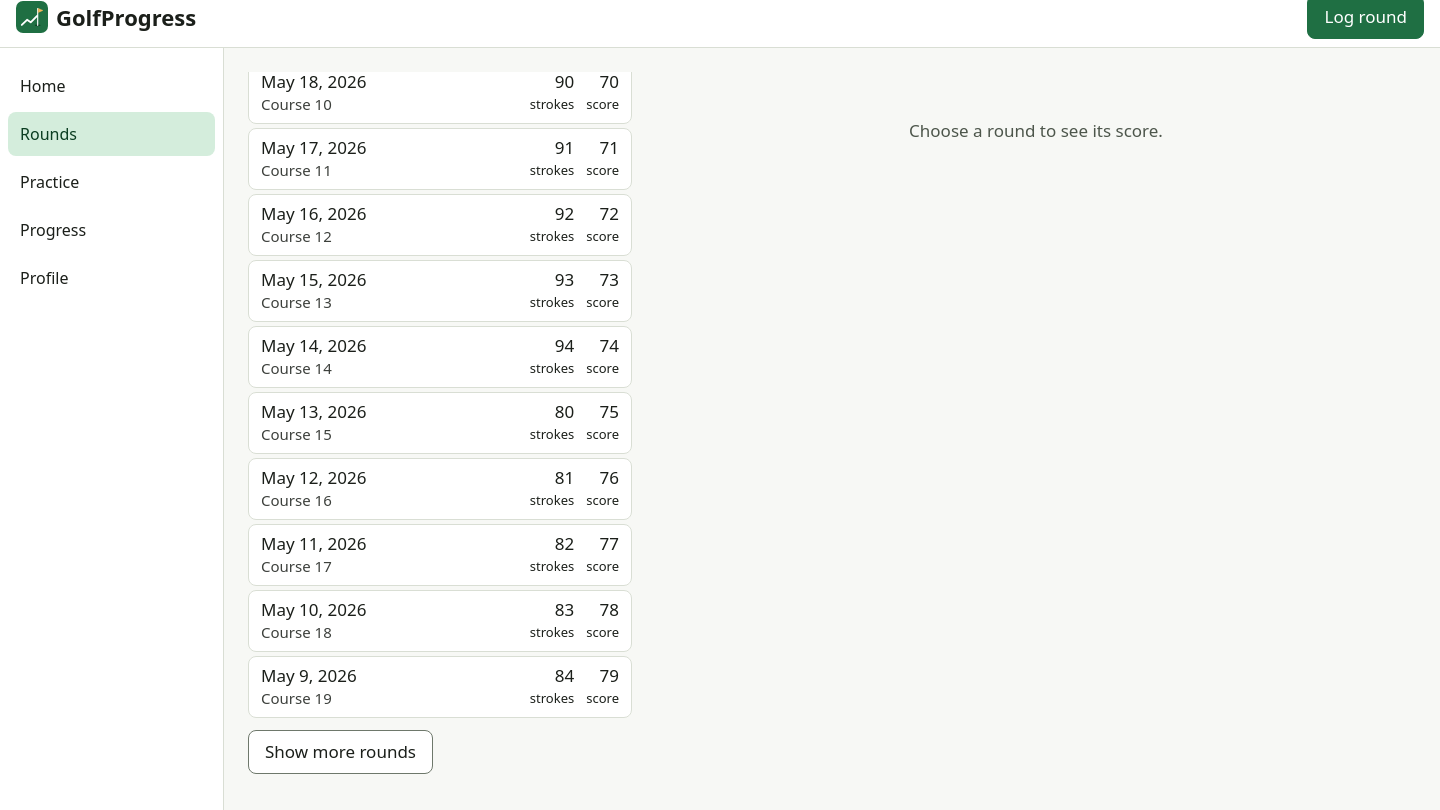
Scenario: round list (#95) › loads more rounds until it has them all
The width and height of the screenshot is (1440, 810).
(page scrolled)
Step 1. Click the button "Show more rounds" → (340, 752), box [248, 730, 433, 774]
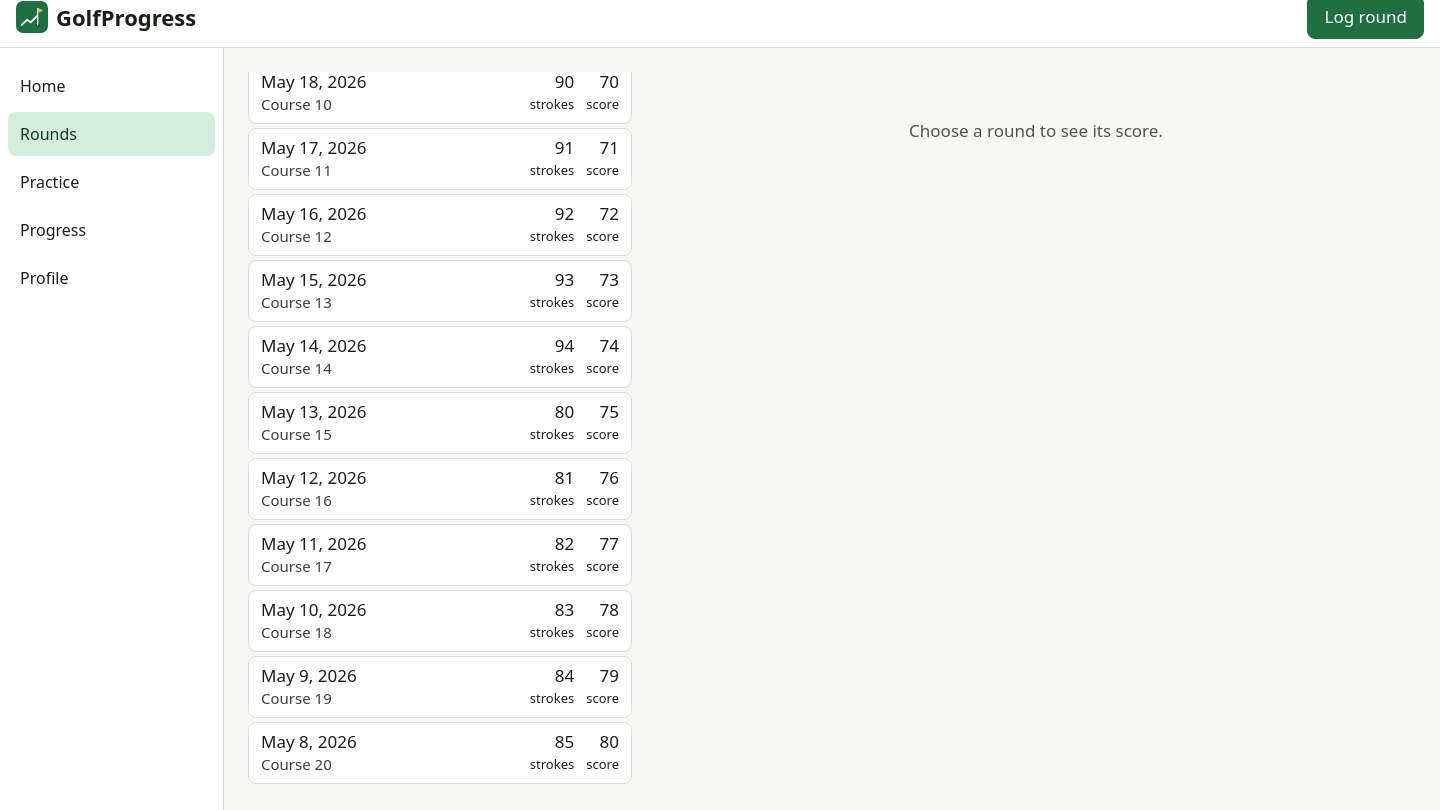
Check: the button "Show more rounds" is gone
